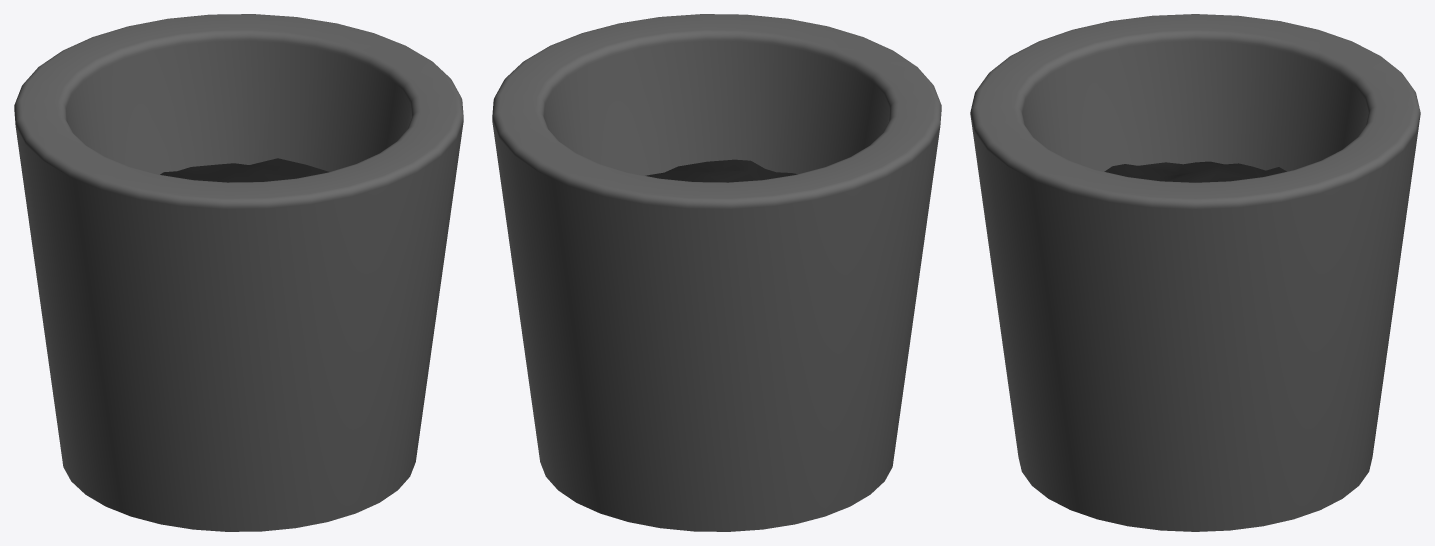
File: trash.fbx
3 renders of one model, left to right at view 1: azimuth 30°, elevation 25°; view 2: azimuth 150°, elevation 25°; view 3: azimuth 270°, elevation 25°, orthographic.
Parts seen in each view (by area): view 1: trash; view 2: trash; view 3: trash.
Boxes of the visible parts, box(x1,y1,x2,y2) form: trash: box(14, 14, 463, 531); trash: box(492, 14, 941, 531); trash: box(970, 14, 1420, 531).
Bounding box in the file's own units: 78.12 × 67.09 × 78.12.
